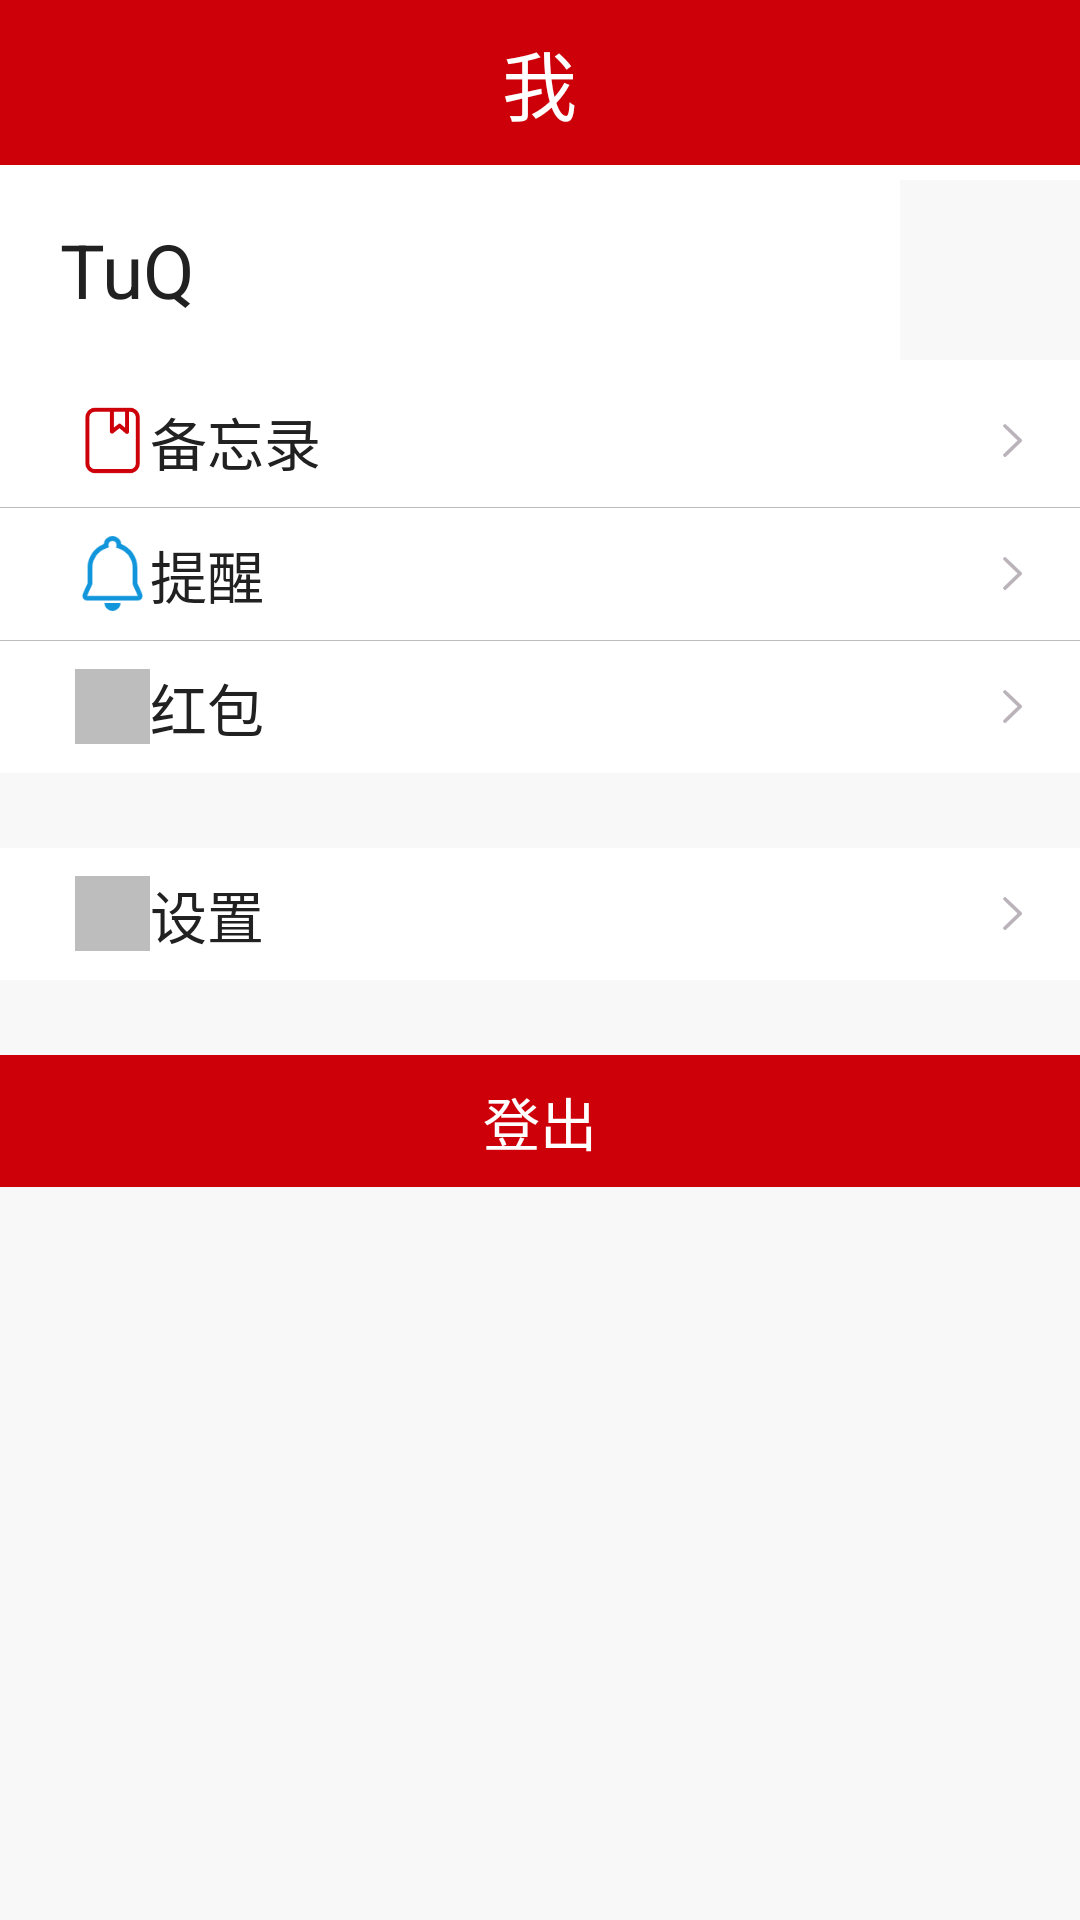

Point at icon controls on the screen. Image size 1080 x 1920, points as (x=x, y=y).
arrow right: (x=1012, y=440), (x=1012, y=573), (x=1012, y=706), (x=1012, y=913)
